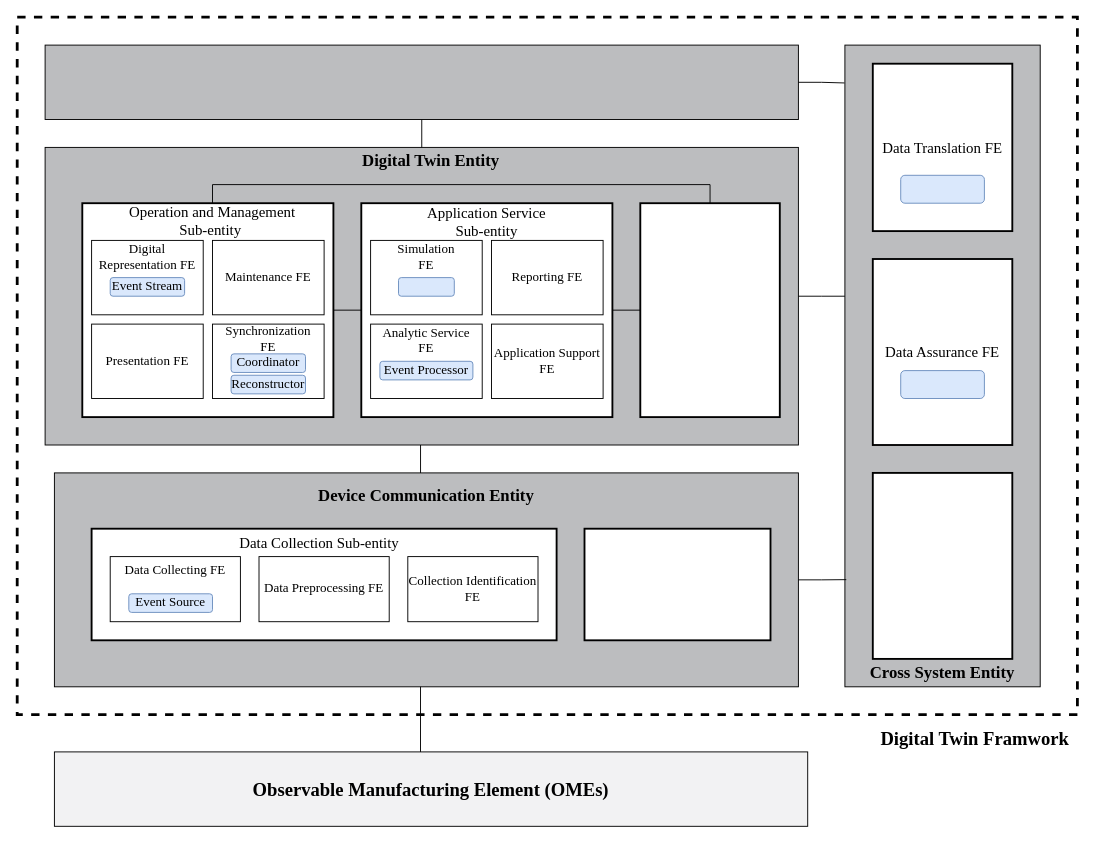
This 1112x843 diagram has some shape labels left out. The centre of each missing label's shape, as x and y in pixels:
Confidence Assessment: point 942,384
Device Control Sub-entity: point 677,584
Event Serialization: point 942,188
Predictor: point 426,286
Resouce Access and Interchange Sub-Entity: point 709,310
Secuirty Support FE: point 942,565
User Entity: point 421,82
